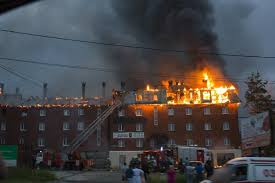fire: (134, 70, 246, 118)
